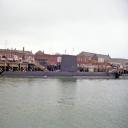submarine: (1, 55, 120, 79)
